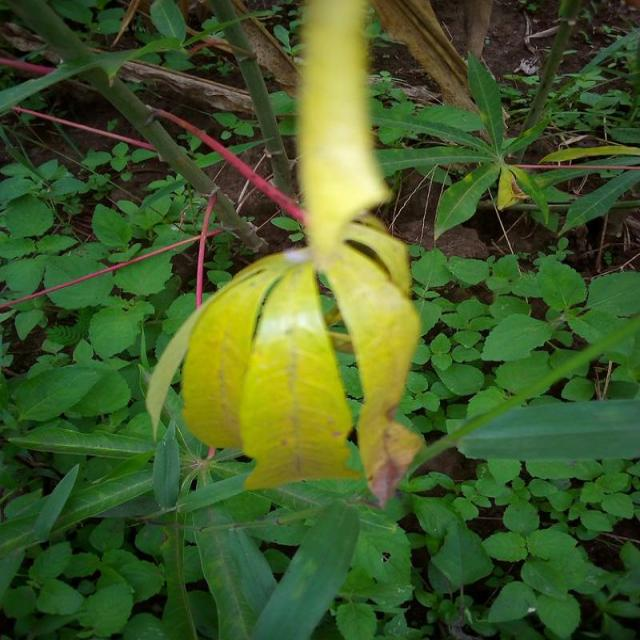cassava leaf: (178, 245, 357, 492)
